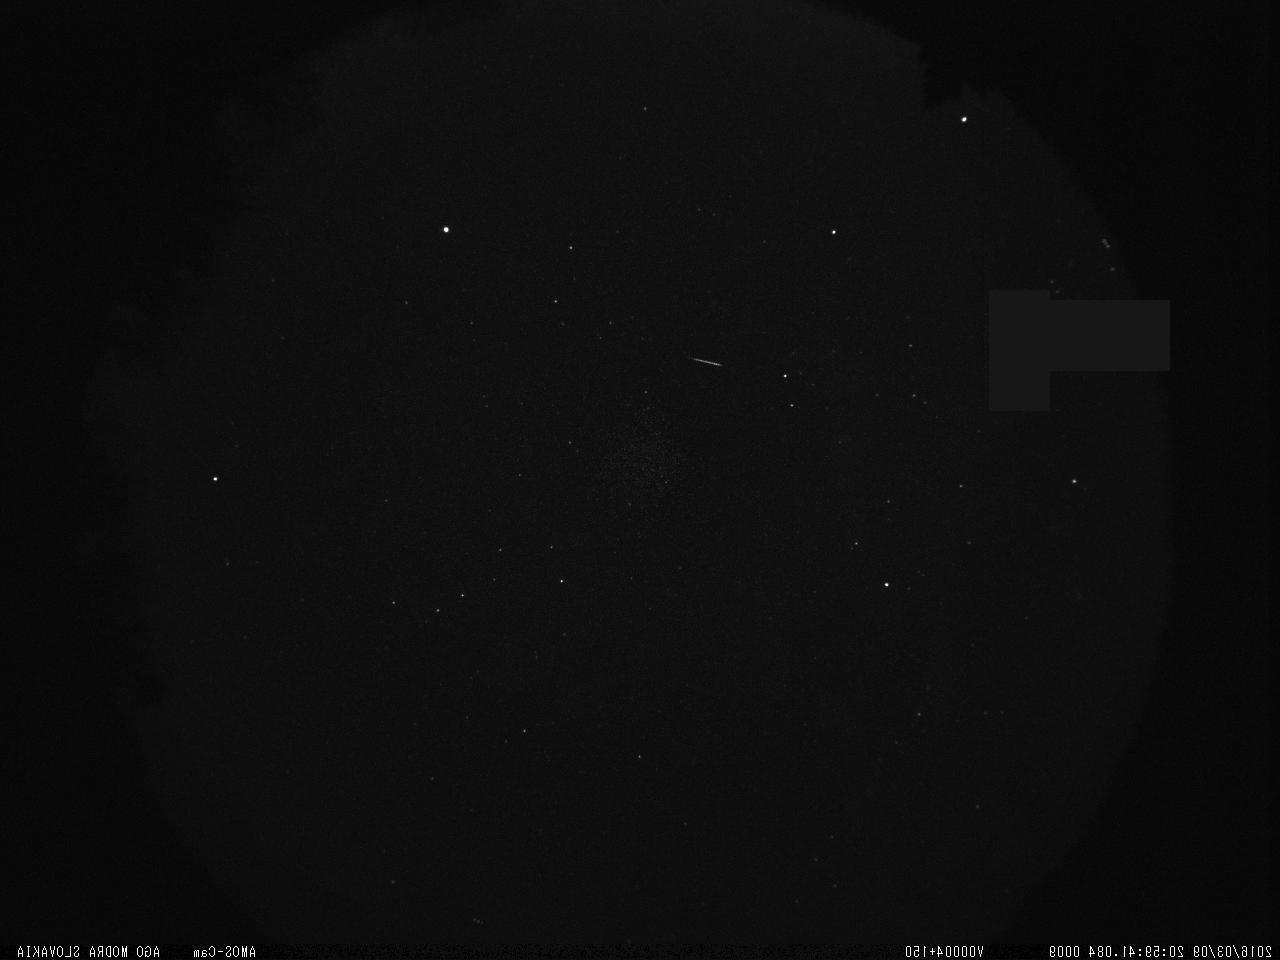meteor: (685, 345, 728, 377)
